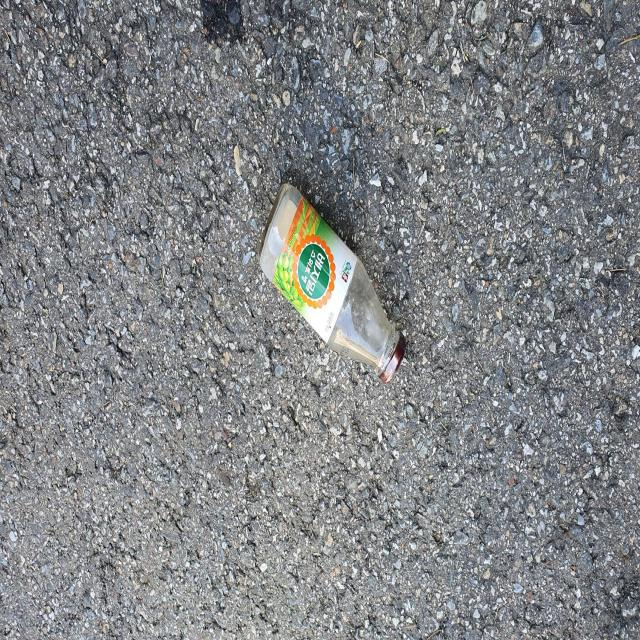glass: (260, 183, 406, 383)
